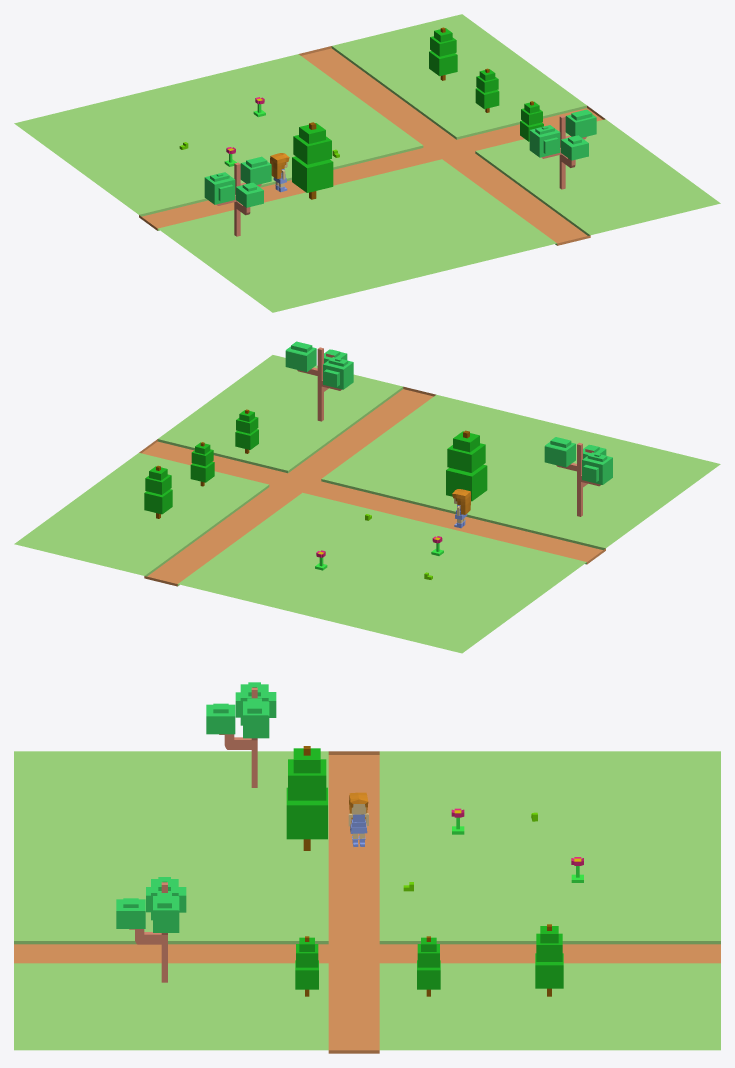
File: portfolio.glb
3 views of the same model, one above another, from view 1: azimuth 30°, elevation 25°; view 2: azimuth 150°, elevation 25°; view 3: azimuth 270°, elevation 25° (orthographic). The views are drawn at different scales.
Visible parts, largest first — view 1: greenscene, character; view 2: greenscene, character; view 3: greenscene, character.
Part boxes in pixels (x1,y1,x2,y2): greenscene: (14, 14, 720, 312); character: (270, 153, 289, 192); greenscene: (14, 341, 720, 653); character: (452, 489, 470, 528); greenscene: (14, 682, 720, 1053); character: (348, 792, 368, 846).
Size of the model in its own units: 105 by 17.34 by 105.
